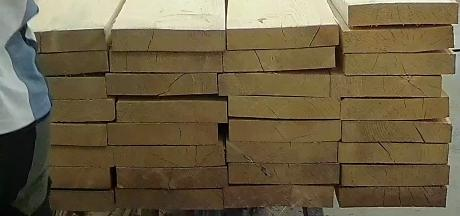Wood-Plank: (341, 25, 455, 53), (227, 24, 339, 50), (219, 71, 331, 96), (224, 48, 336, 72), (344, 51, 456, 75), (112, 144, 226, 167), (229, 119, 342, 142), (229, 96, 341, 119), (116, 99, 227, 122), (348, 3, 459, 26), (111, 29, 226, 51), (342, 97, 450, 120), (107, 123, 219, 145), (106, 74, 218, 96), (117, 167, 228, 189), (343, 122, 453, 144), (224, 186, 334, 208), (15, 50, 108, 76), (15, 98, 115, 122), (115, 189, 224, 210), (332, 75, 441, 96), (339, 143, 448, 164), (342, 166, 450, 187), (110, 52, 222, 72), (14, 28, 107, 52), (227, 142, 338, 162), (229, 164, 340, 184), (17, 122, 107, 146), (339, 187, 446, 207), (16, 76, 107, 99), (19, 167, 111, 189), (18, 146, 114, 166), (20, 190, 114, 210)
